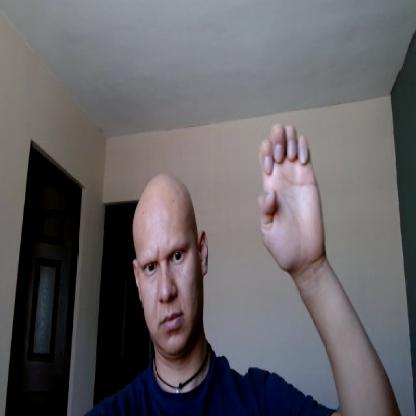E: (259, 121, 324, 271)
